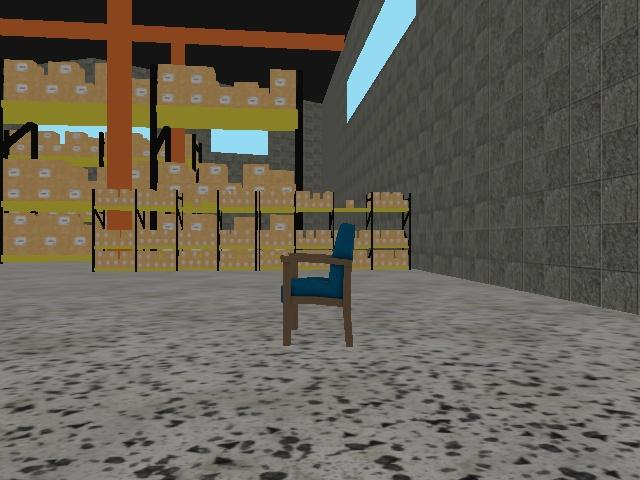chair: (279, 221, 356, 348)
